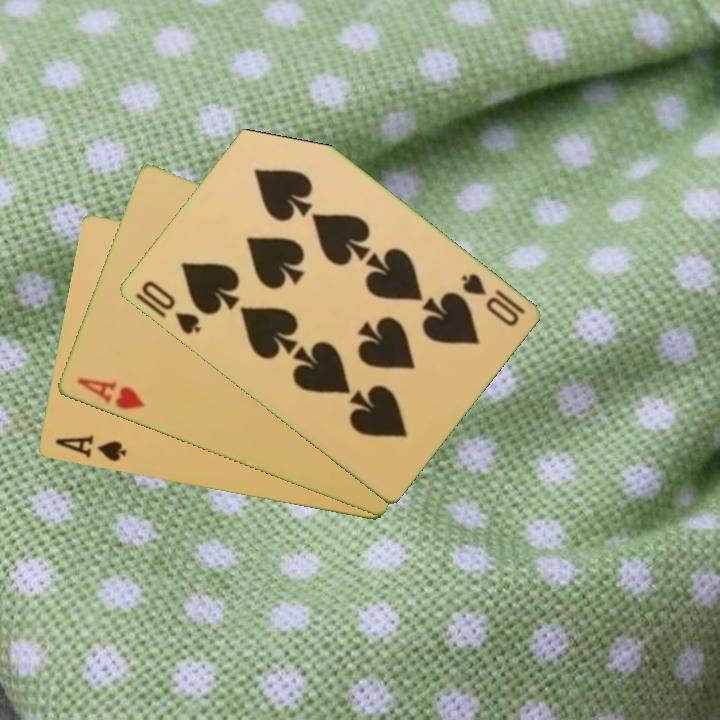10s: (456, 269, 528, 329), (137, 277, 203, 338)
Ah: (73, 374, 147, 413)
As: (51, 431, 129, 465)
